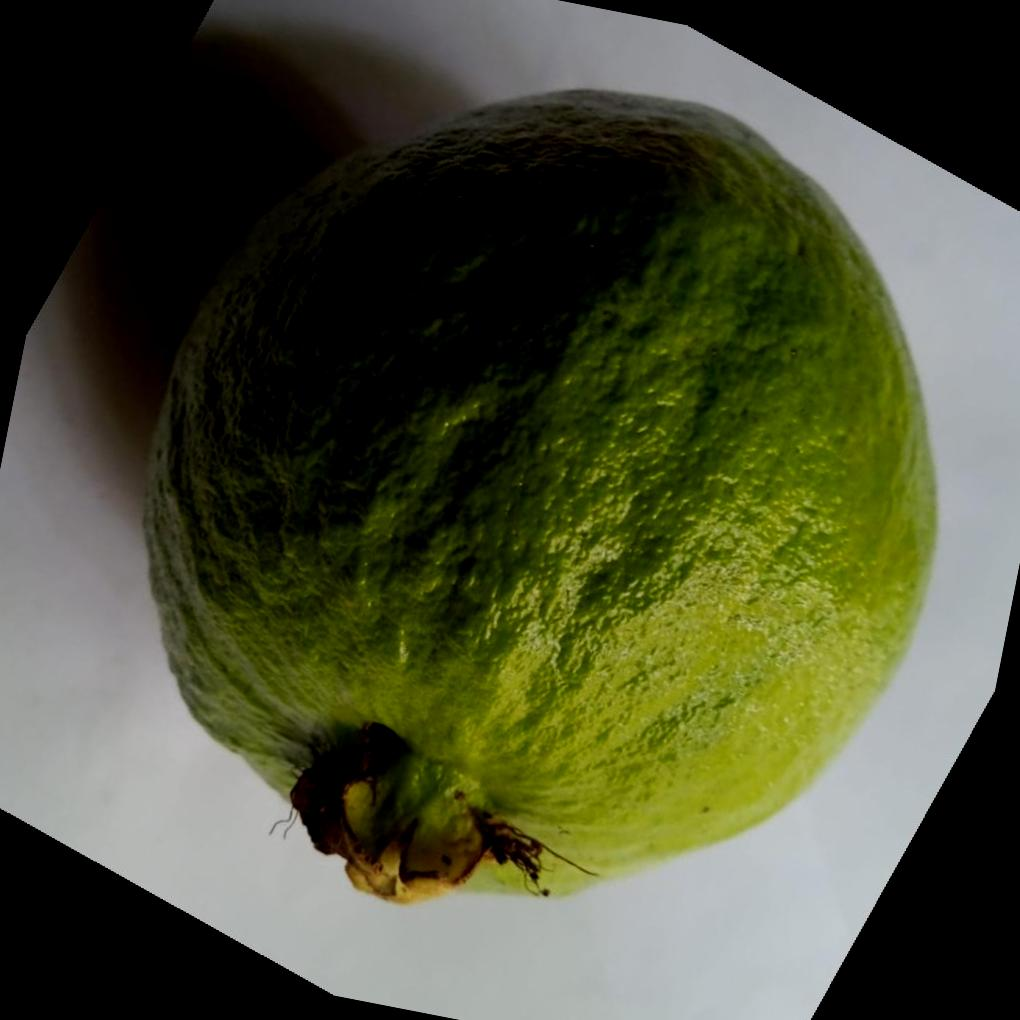FreshGuava: (135, 86, 936, 906)
